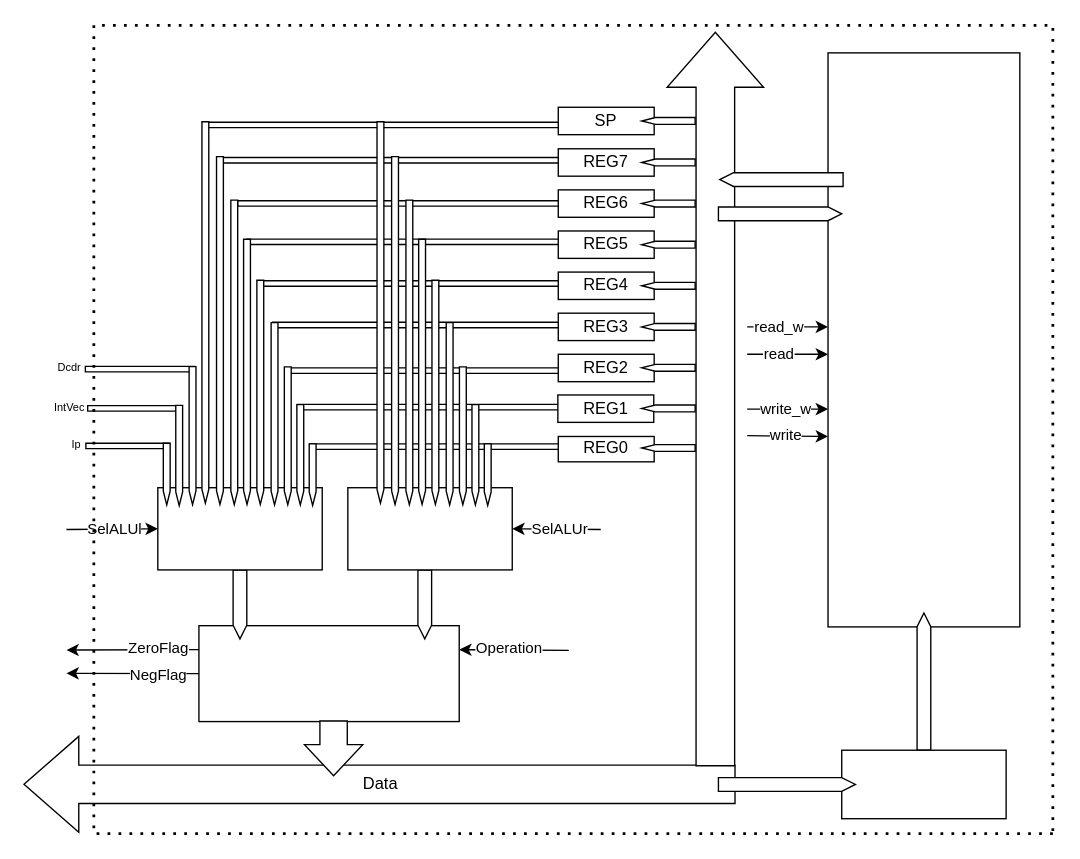
This 1080x859 diagram has some shape labels left out. The box of each missing label's shape, as (x1, y1, x2, y2) in pixels:
ADDR REG: (840, 749, 1006, 819)
ALU: (198, 624, 459, 722)
ALUlMultiplexer: (156, 486, 322, 570)
ALUrMultiplexer: (346, 486, 512, 570)
Data memory: (827, 52, 1020, 627)
